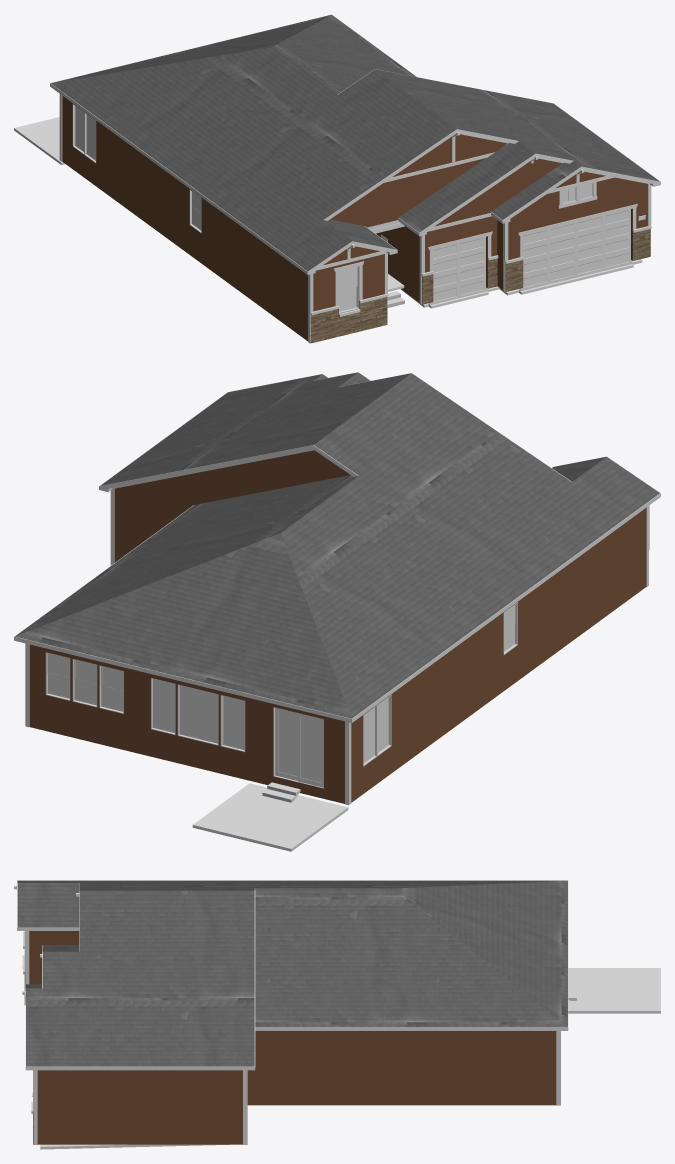
File: 139-1851-dm-craftsman.glb
3 views of the same model, one above another, from view 1: azimuth 30°, elevation 25°; view 2: azimuth 150°, elevation 25°; view 3: azimuth 270°, elevation 25° (orthographic). The views are drawn at different scales.
Parts seen in each view (by area): view 1: Basic Roof Wood Rafter 4" - Asphalt Shingle - Insulated_6dca, Basic Roof Wood Rafter 4" - Asphalt Shingle - Insulated_90f6, Basic Wall BSB Exterior - Stud_5.5" - Sheathing_0.5" - _ed29, Basic Wall BSB Exterior - Stud_5.5" - Sheathing_0.5" - _146a, Craftsman - BSB Exterior - Overhead Garage Door - Clopa_1508, Basic Wall BSB Exterior - Stud_1.5" - Sheathing_0.5" - _8107, Fascia Fascia-Flat 1x6 w/ 12" Soffit Bd [3777285], Trim - All Craftsman Trim - All Craftsman [3362770], Basic Wall BSB Exterior - Stud_3.5" - Sheathing_0.5" - _11d2, Craftsman - BSB Exterior - Overhead Garage Door - Clopa_3996, Basic Wall BSB Exterior - Stud_1.5" - Sheathing_0.5" - _3d26, Basic Wall BSB Exterior - Stone Veneer_2" [3781558] (+14 smaller); view 2: Basic Roof Wood Rafter 4" - Asphalt Shingle - Insulated_90f6, Basic Roof Wood Rafter 4" - Asphalt Shingle - Insulated_6dca, Basic Wall BSB Exterior - Stud_5.5" - Sheathing_0.5" - _5f6d, Basic Wall BSB Exterior - Stud_5.5" - Sheathing_0.5" - _ed29, Basic Wall BSB Exterior - Stud_5.5" - Sheathing_0.5" - _146a, Basic Wall BSB Exterior - Stud_1.5" - Sheathing_0.5" - _e38f, Floor BSB Concrete Slab - 4" - Slope Option [3004667], Fascia Fascia-Flat 1x6 w/ 12" Soffit Bd [3777285], BSB Exterior - SGD XO - 1-Lite 6080 [3004582], Basic Wall BSB Exterior - Stud_5.5" - Sheathing_0.5" - _4c3b, Basic Wall BSB Exterior - Stud_3.5" - Sheathing_0.5" - _2398, BSB Fixed 5060 FX w/ Sill [3004265] (+8 smaller); view 3: Basic Roof Wood Rafter 4" - Asphalt Shingle - Insulated_90f6, Basic Roof Wood Rafter 4" - Asphalt Shingle - Insulated_6dca, Basic Wall BSB Exterior - Stud_5.5" - Sheathing_0.5" - _0ba8, Basic Wall BSB Exterior - Stud_3.5" - Sheathing_0.5" - _b890, Basic Wall BSB Exterior - Stud_3.5" - Sheathing_0.5" - _217e, Floor BSB Concrete Slab - 4" - Slope Option [3004667], Fascia Fascia-Flat 1x6 w/ 12" Soffit Bd [3777285], Basic Wall BSB Exterior - Stud_3.5" - Sheathing_0.5" - _d8a8, Trim - All Craftsman Trim - All Craftsman [3362770], Basic Wall BSB Exterior - Stud_5.5" - Sheathing_0.5" - _8e2f, Basic Wall BSB Exterior - Stud_3.5" - Sheathing_0.5" - _f96d, Basic Wall BSB Exterior - Stud_3.5" - Sheathing_0.5" - _bf1f (+1 smaller).
Part boxes in pixels (x1,y1,x2,y2): Basic Roof Wood Rafter 4" - Asphalt Shingle - Insulated_6dca: (197,69,659,271); Basic Roof Wood Rafter 4" - Asphalt Shingle - Insulated_90f6: (51,14,416,190); Basic Wall BSB Exterior - Stud_5.5" - Sheathing_0.5" - _ed29: (62,96,174,243); Basic Wall BSB Exterior - Stud_5.5" - Sheathing_0.5" - _146a: (175,178,278,319); Craftsman - BSB Exterior - Overhead Garage Door - Clopa_1508: (519,209,632,291); Basic Wall BSB Exterior - Stud_1.5" - Sheathing_0.5" - _8107: (330,134,507,227); Fascia Fascia-Flat 1x6 w/ 12" Soffit Bd [3777285]: (50,14,660,274); Trim - All Craftsman Trim - All Craftsman [3362770]: (59,94,651,343); Basic Wall BSB Exterior - Stud_3.5" - Sheathing_0.5" - _11d2: (508,183,647,259); Craftsman - BSB Exterior - Overhead Garage Door - Clopa_3996: (429,236,487,305); Basic Wall BSB Exterior - Stud_1.5" - Sheathing_0.5" - _3d26: (434,158,561,226); Basic Wall BSB Exterior - Stone Veneer_2" [3781558]: (310,294,387,343); Basic Roof Wood Rafter 4" - Asphalt Shingle - Insulated_90f6: (15,475,526,718); Basic Roof Wood Rafter 4" - Asphalt Shingle - Insulated_6dca: (100,372,659,590); Basic Wall BSB Exterior - Stud_5.5" - Sheathing_0.5" - _5f6d: (29,644,344,803); Basic Wall BSB Exterior - Stud_5.5" - Sheathing_0.5" - _ed29: (351,625,485,802); Basic Wall BSB Exterior - Stud_5.5" - Sheathing_0.5" - _146a: (486,534,610,703); Basic Wall BSB Exterior - Stud_1.5" - Sheathing_0.5" - _e38f: (116,450,350,506); Floor BSB Concrete Slab - 4" - Slope Option [3004667]: (192,783,348,851); Fascia Fascia-Flat 1x6 w/ 12" Soffit Bd [3777285]: (14,372,660,722); BSB Exterior - SGD XO - 1-Lite 6080 [3004582]: (273,707,323,788); Basic Wall BSB Exterior - Stud_5.5" - Sheathing_0.5" - _4c3b: (610,508,646,612); Basic Wall BSB Exterior - Stud_3.5" - Sheathing_0.5" - _2398: (115,488,190,561); BSB Fixed 5060 FX w/ Sill [3004265]: (177,684,218,745); Basic Roof Wood Rafter 4" - Asphalt Shingle - Insulated_90f6: (254,880,567,1027); Basic Roof Wood Rafter 4" - Asphalt Shingle - Insulated_6dca: (17,880,254,1066); Basic Wall BSB Exterior - Stud_5.5" - Sheathing_0.5" - _0ba8: (247,1031,556,1105); Basic Wall BSB Exterior - Stud_3.5" - Sheathing_0.5" - _b890: (102,1070,174,1144); Basic Wall BSB Exterior - Stud_3.5" - Sheathing_0.5" - _217e: (174,1070,242,1144); Floor BSB Concrete Slab - 4" - Slope Option [3004667]: (568,968,660,1013); Fascia Fascia-Flat 1x6 w/ 12" Soffit Bd [3777285]: (17,880,568,1070); Basic Wall BSB Exterior - Stud_3.5" - Sheathing_0.5" - _d8a8: (60,1070,102,1144); Trim - All Craftsman Trim - All Craftsman [3362770]: (24,931,560,1144); Basic Wall BSB Exterior - Stud_5.5" - Sheathing_0.5" - _8e2f: (30,931,79,984); Basic Wall BSB Exterior - Stud_3.5" - Sheathing_0.5" - _f96d: (37,1070,51,1144); Basic Wall BSB Exterior - Stud_3.5" - Sheathing_0.5" - _bf1f: (51,1070,59,1144).
Bounding box in the file's own units: 15.89 × 6.83 × 23.29.
Materials: 3 (2 with a texture image).
